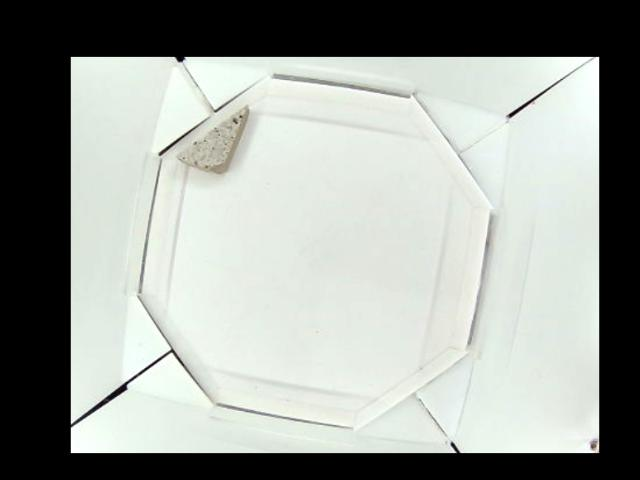China: (177, 105, 247, 171)
